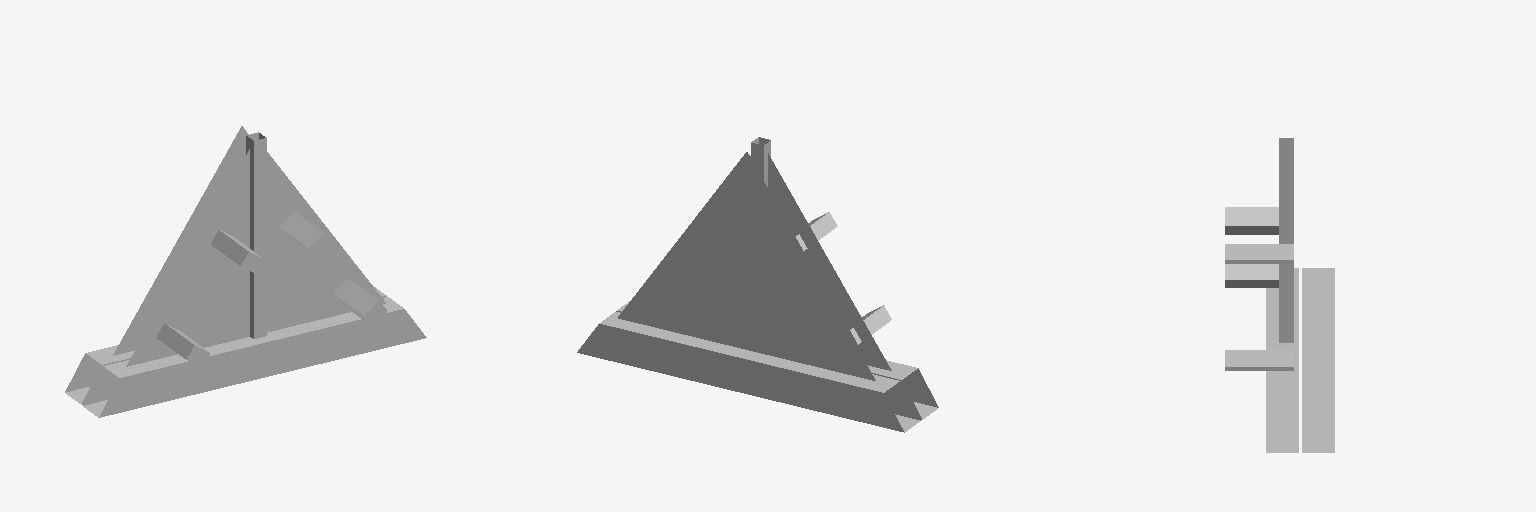
Rendered from Roof_Front_Wood2.obj.
The picture shows the model from 3 angles: view 1: azimuth 30°, elevation 25°; view 2: azimuth 150°, elevation 25°; view 3: azimuth 270°, elevation 25°; orthographic projection.
Visible parts, largest first — view 1: Roof_Front_Wood2; view 2: Roof_Front_Wood2; view 3: Roof_Front_Wood2.
Boxes of the visible parts, x1=… form: Roof_Front_Wood2: x1=65, y1=126, x2=426, y2=417; Roof_Front_Wood2: x1=577, y1=137, x2=938, y2=432; Roof_Front_Wood2: x1=1225, y1=138, x2=1334, y2=452.
Bounding box in the file's own units: 2.61 × 1.77 × 0.7513.